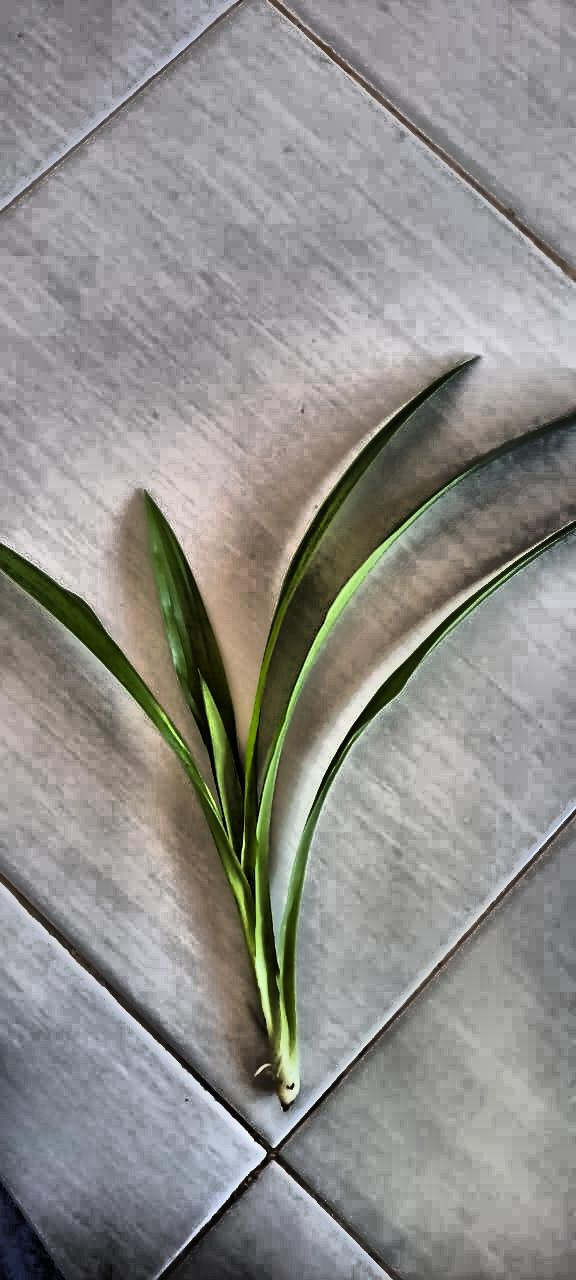daun pandan: (0, 362, 575, 1109)
